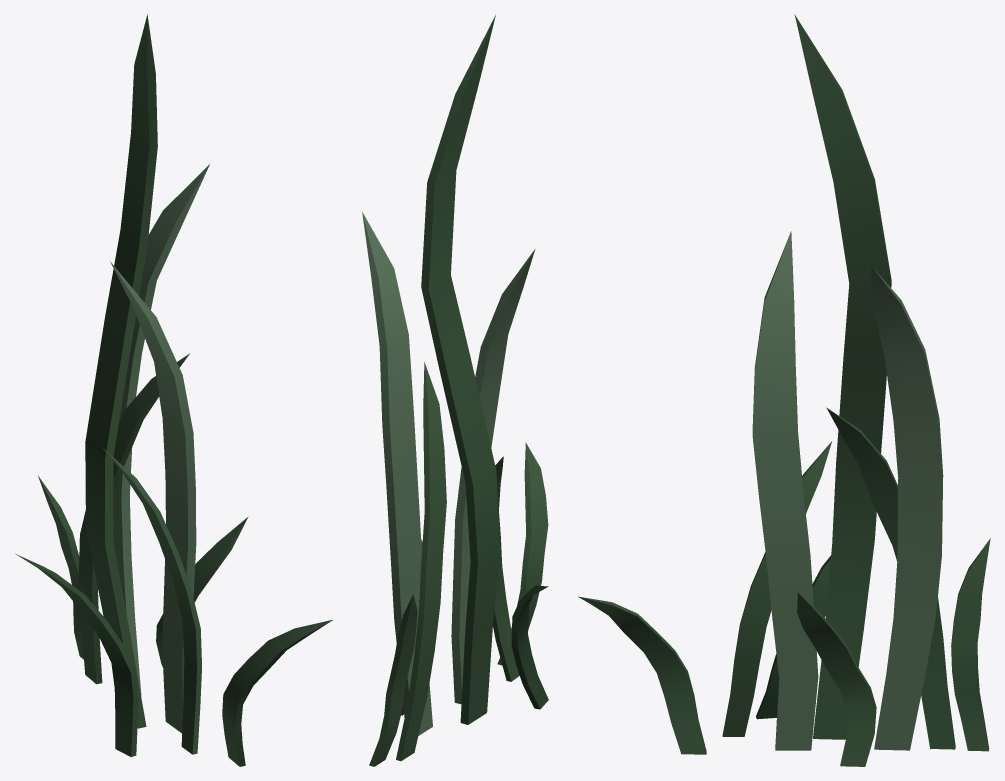
File: GrassWhistory.fbx
3 renders of one model, left to right at view 1: azimuth 30°, elevation 25°; view 2: azimuth 150°, elevation 25°; view 3: azimuth 270°, elevation 25°, orthographic. The views are drawn at different scales.
Parts seen in each view (by area): view 1: polySurface2; view 2: polySurface2; view 3: polySurface2.
Boxes of the visible parts, left/top/right/bottom form: polySurface2: left=15, top=14, right=332, bottom=766; polySurface2: left=362, top=15, right=548, bottom=766; polySurface2: left=578, top=14, right=990, bottom=766.
Bounding box in the file's own units: 3.57 × 12.56 × 6.5.
